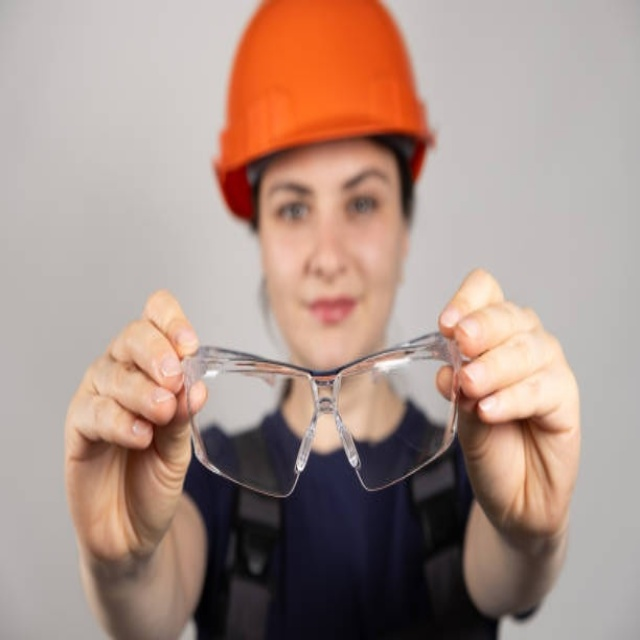Sin_gafas: (265, 171, 381, 242)
Sin_guantes: (435, 257, 582, 542), (64, 282, 205, 568)
Sin_mascara: (295, 284, 366, 344)
